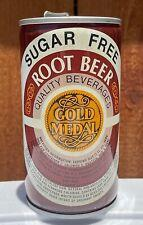metal: (19, 11, 122, 214)
